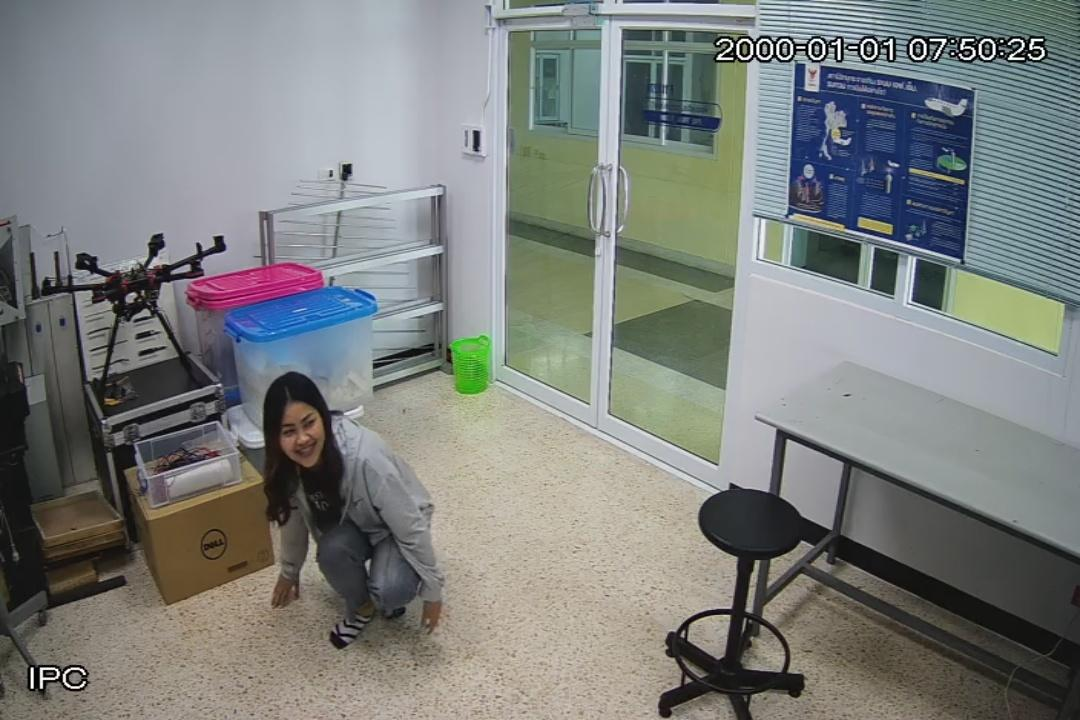normal: (266, 368, 445, 647)
